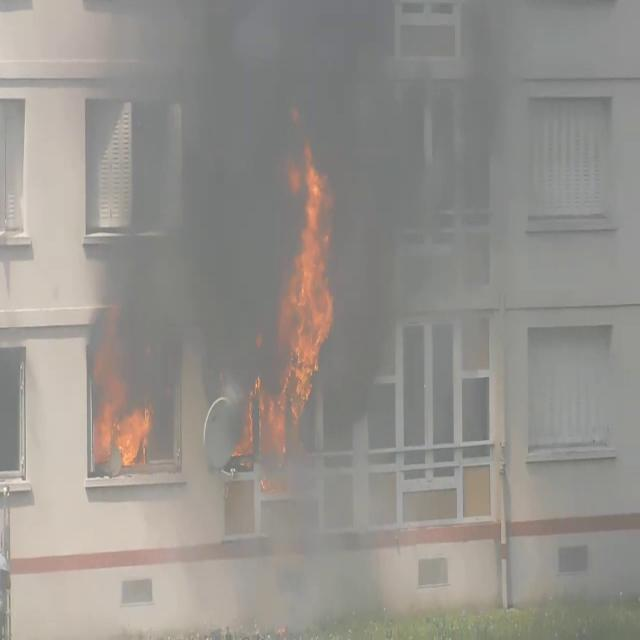Fire: (278, 136, 338, 416), (92, 382, 157, 472)
Smoke: (88, 4, 612, 484)
